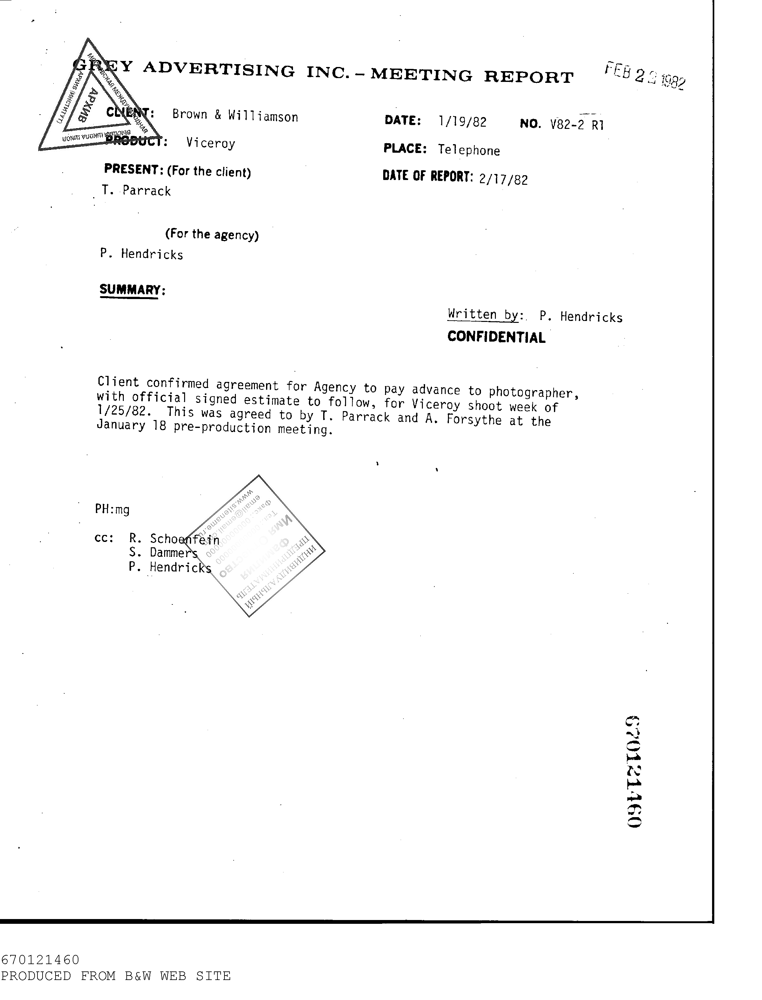rectangle: (182, 474, 326, 618)
triangle: (36, 36, 188, 196)
